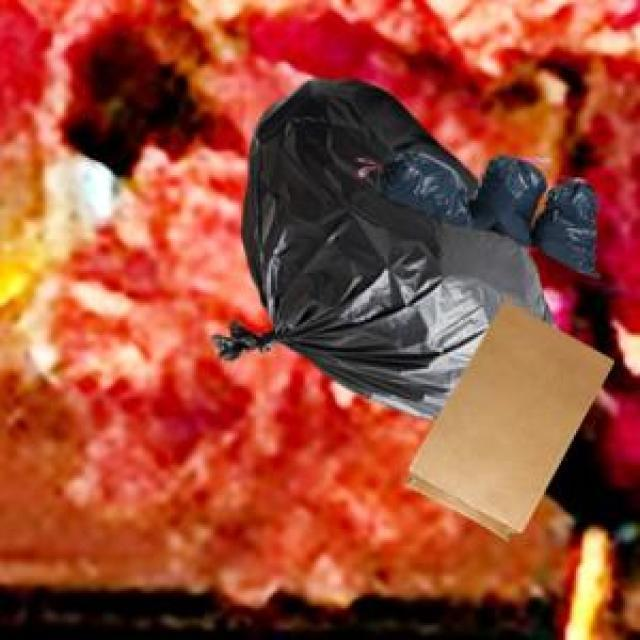miscellaneous trash: (209, 77, 550, 414), (373, 147, 595, 273)
paper: (401, 297, 610, 536)
